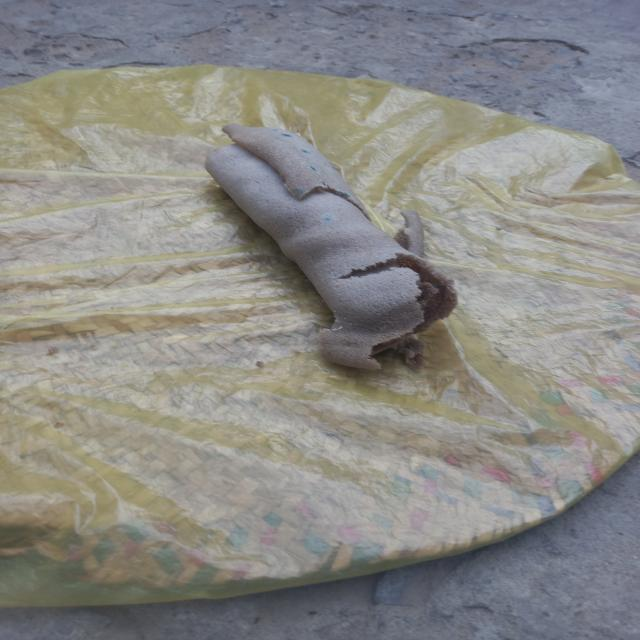injera_mold: (336, 189, 350, 199), (293, 187, 306, 197), (331, 325, 344, 333), (308, 164, 319, 173), (431, 282, 440, 290), (300, 148, 311, 154), (323, 216, 332, 223), (281, 133, 293, 138), (319, 185, 325, 192), (272, 128, 279, 132), (276, 137, 280, 140), (331, 166, 334, 168)
